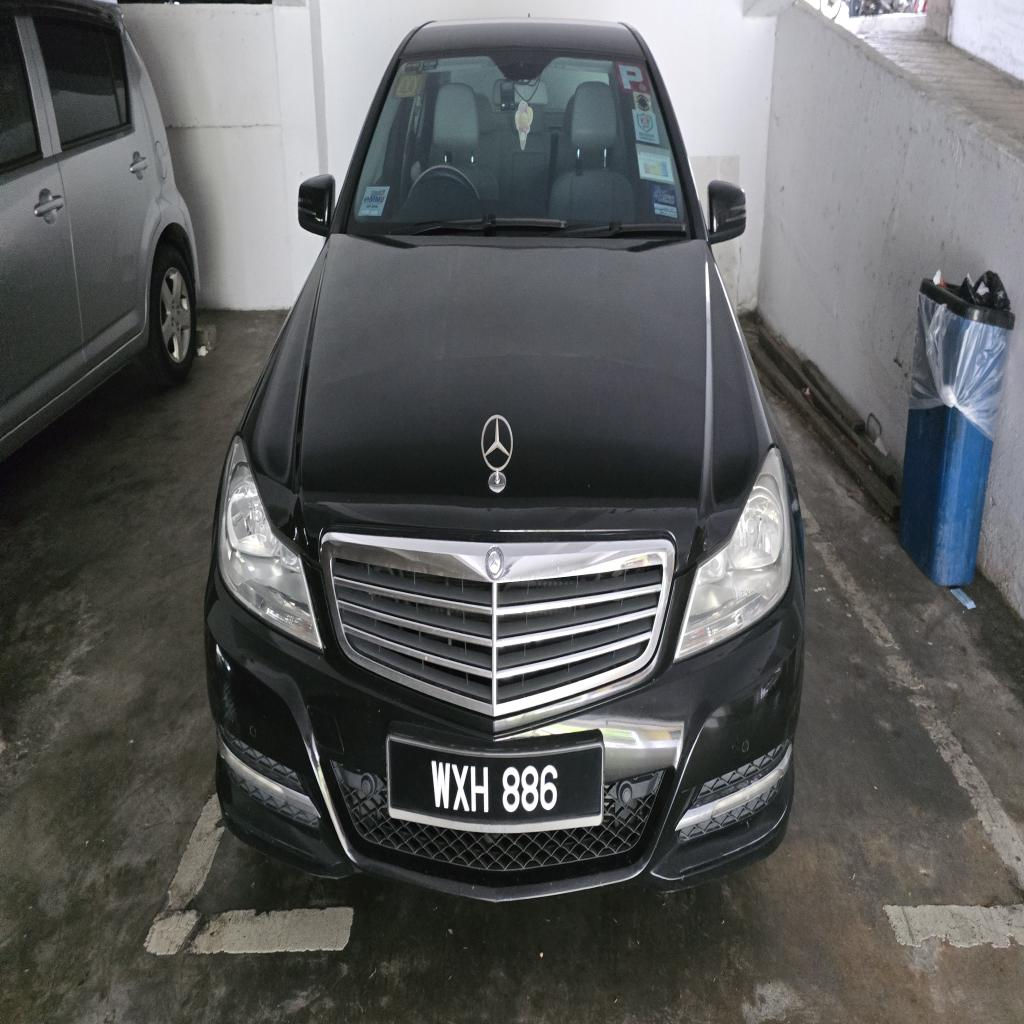car: (206, 20, 803, 899)
car plate: (388, 733, 603, 832)
